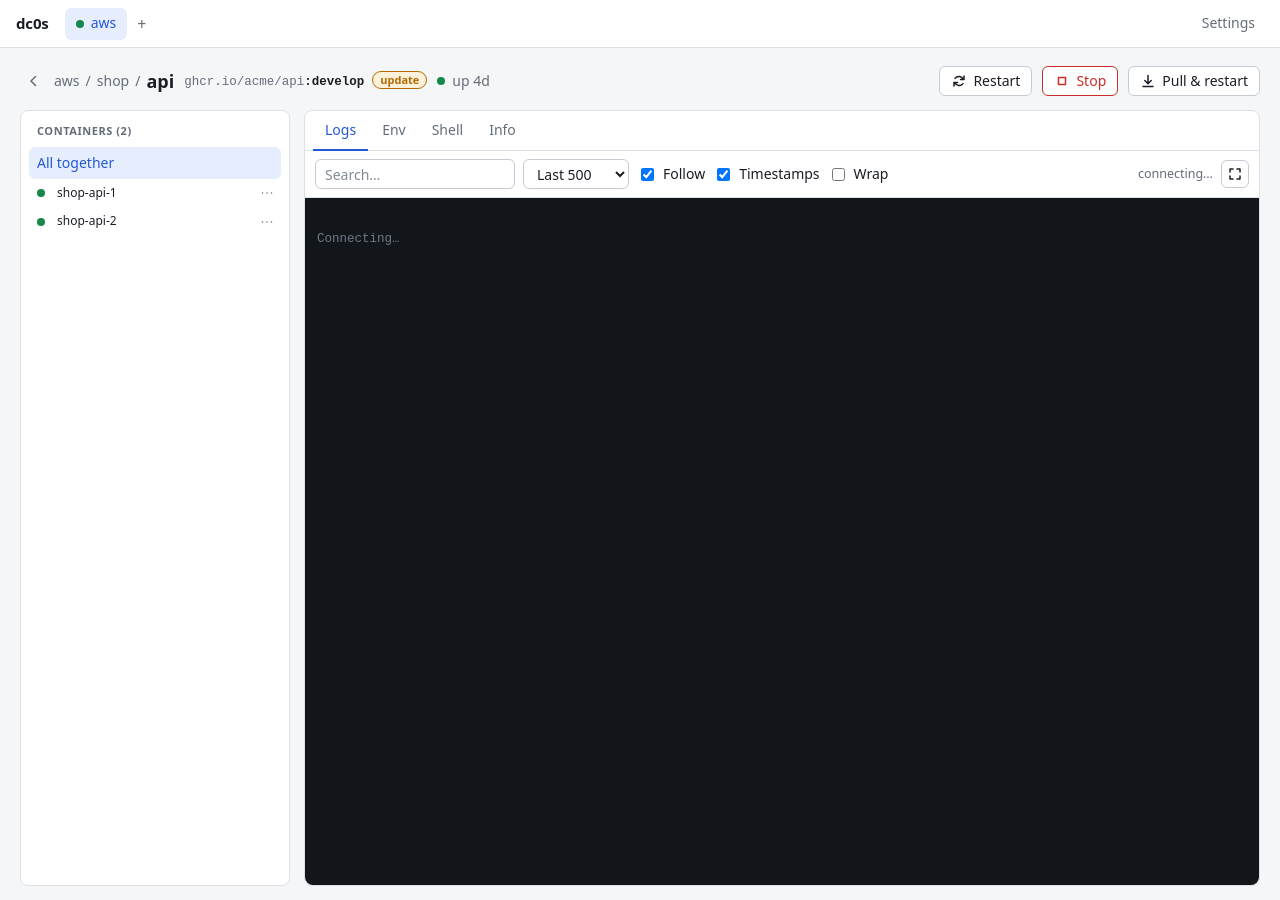
Test: ServicePage › "All together" is offered only on tabs that can show several containers
expect the button "All together" is shown: met, box [29, 147, 281, 179]
Step 1. Click the tab "Env" → {"x": 394, "y": 131}, box [370, 111, 418, 151]
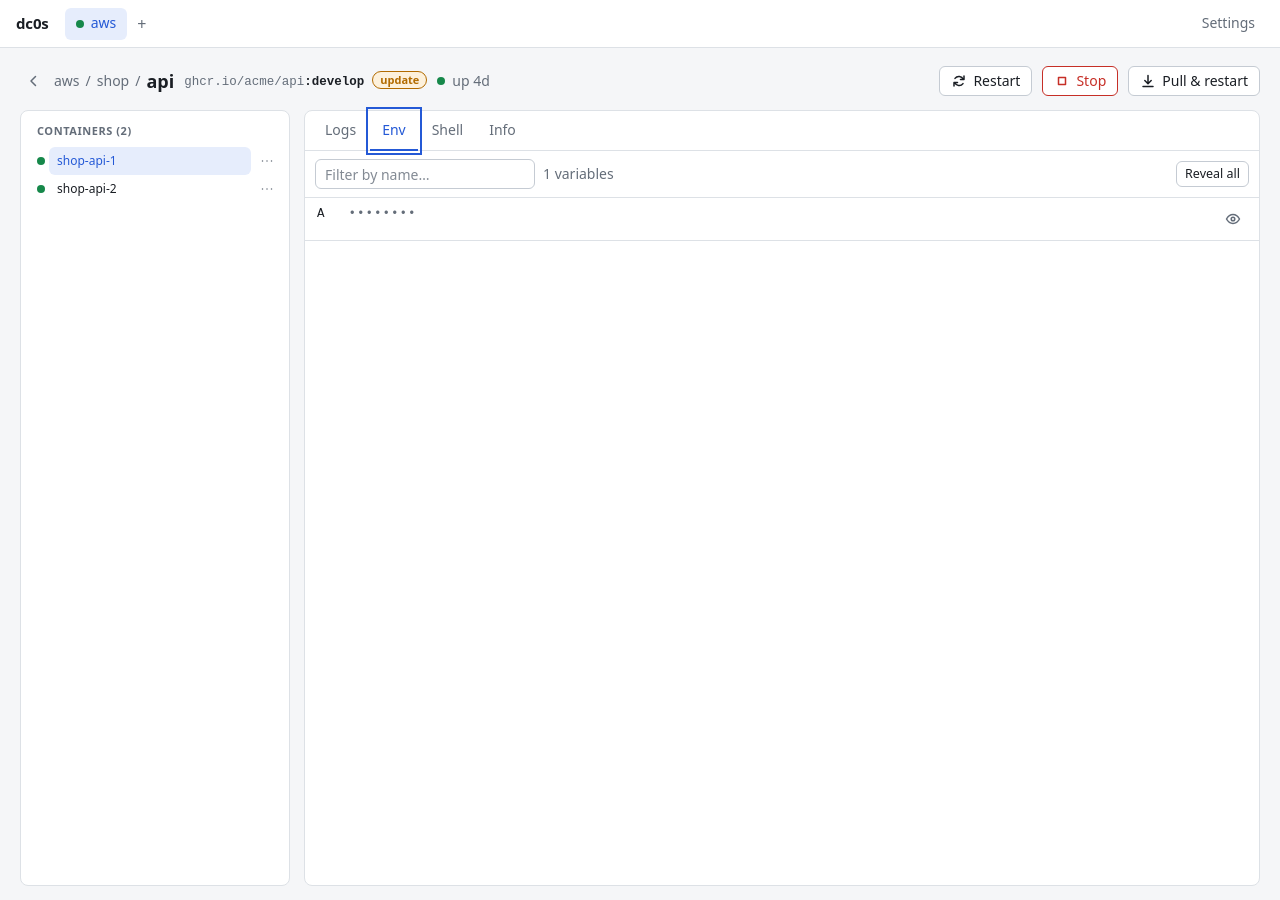
expect the button "All together" is gone: met
expect the row "A ••••••••" is shown: met, box [305, 198, 1259, 241]
